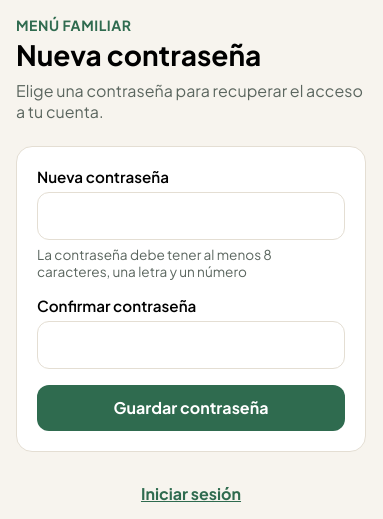
HU-04 Recuperación de contraseña › CA-04.1 confirma la nueva contraseña y ofrece iniciar sesión
This screenshot has width=383, height=519.
In the password field labelled "Nueva contraseña": (191, 216) [37,192,345,240], type "PepianDePollo9"
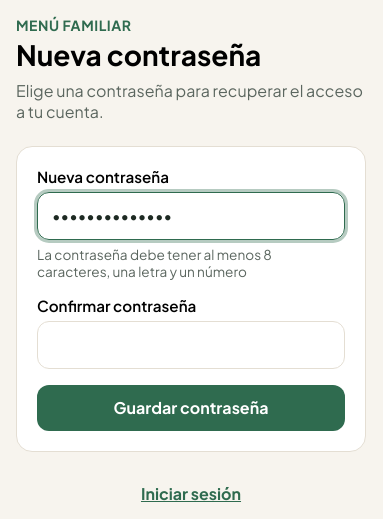
In the password field labelled "Confirmar contraseña": (191, 345) [37,321,345,369], type "PepianDePollo9"
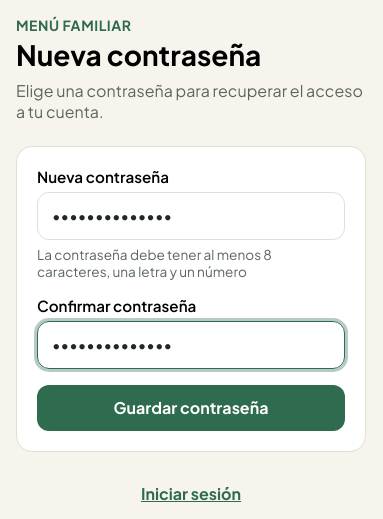
Click the button "Guardar contraseña": (191, 408) [37,385,345,431]
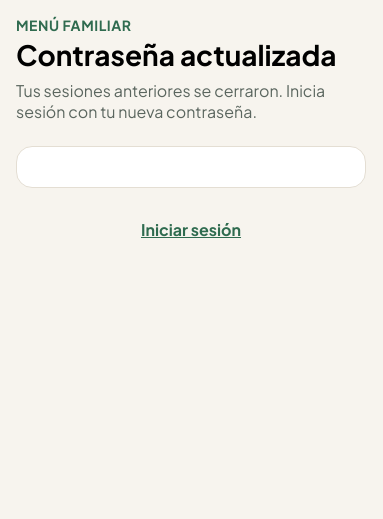
Expected: the heading "Contraseña actualizada" is shown, [16,38,366,72]
